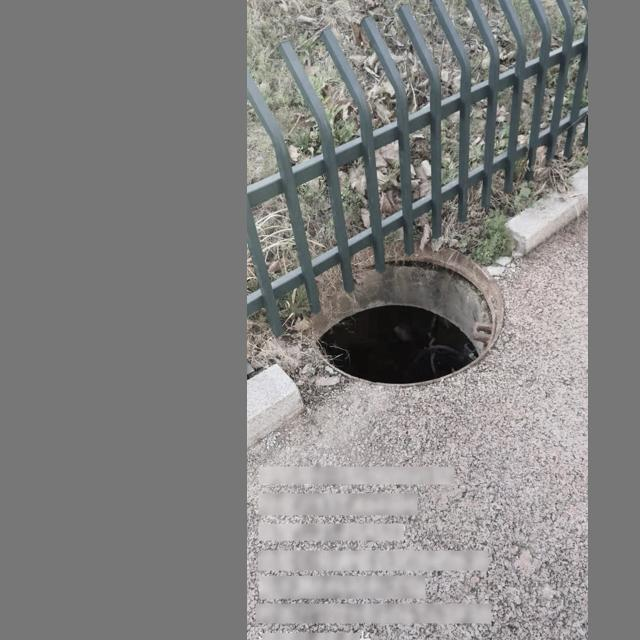lose: (301, 243, 509, 389)
